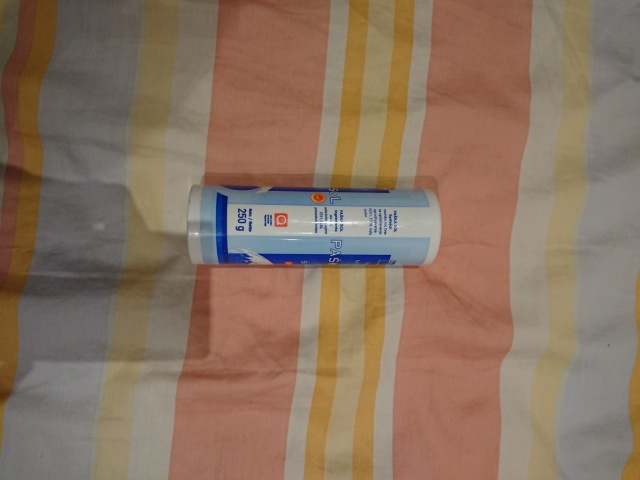Solana Pag Fine Sea Salt 250g: (183, 182, 445, 269)
